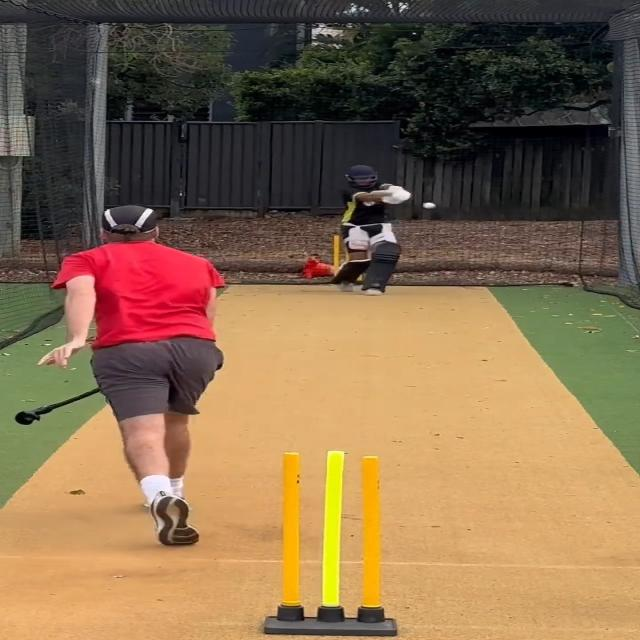ball: (422, 202, 437, 211)
stump: (266, 448, 396, 637)
